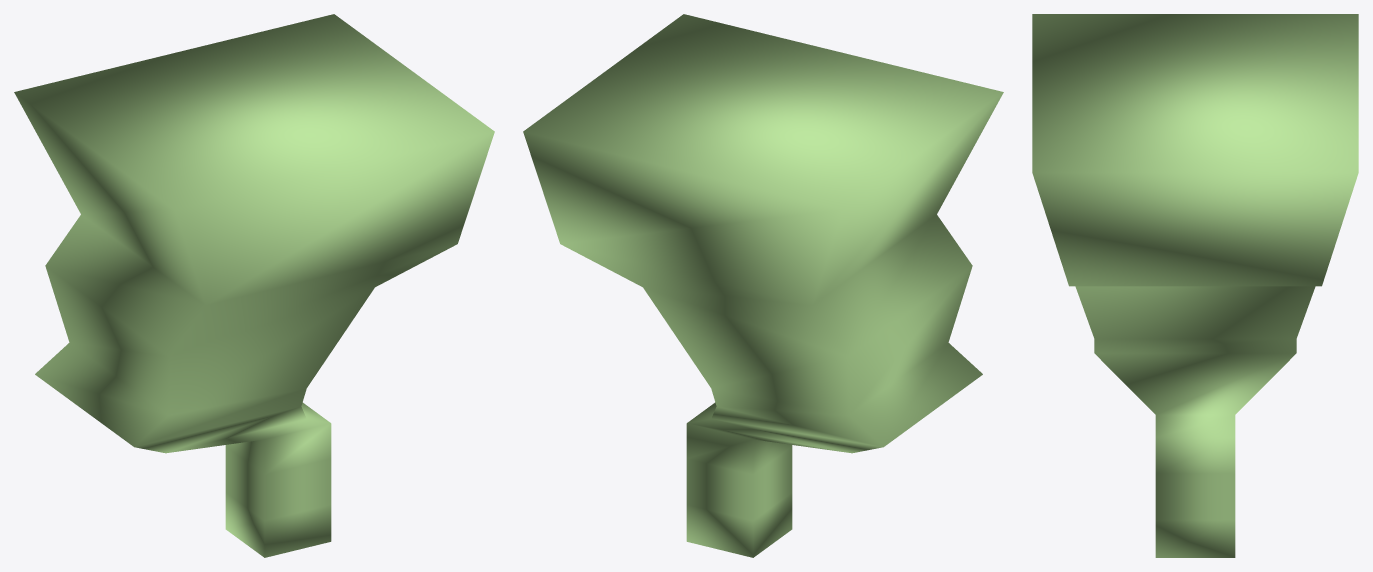
The model's file is lowTree.obj.
3 renders of one model, left to right at view 1: azimuth 30°, elevation 25°; view 2: azimuth 150°, elevation 25°; view 3: azimuth 270°, elevation 25°, orthographic.
Visible parts, largest first — view 1: w; view 2: w; view 3: w.
Part boxes in pixels (x1=…): w: x1=14, y1=14, x2=494, y2=557; w: x1=523, y1=14, x2=1003, y2=557; w: x1=1032, y1=14, x2=1358, y2=557.
Bounding box in the file's own units: 158 × 197 × 133.
